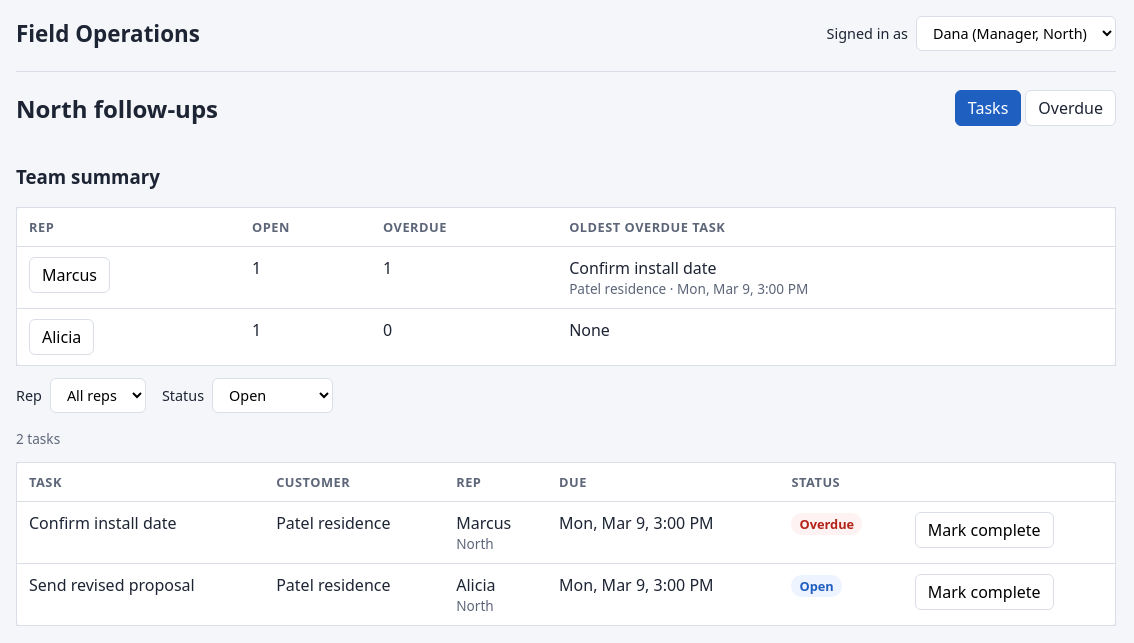
Test: Manager summary › opens a rep's open tasks and keeps the full summary while filters change
This screenshot has width=1134, height=643.
Expected: the table named "Tasks by rep" is shown, [16,207,1116,366]
Select "Completed" in the dropdown labelled "Status": (273, 396) [212,378,333,413]
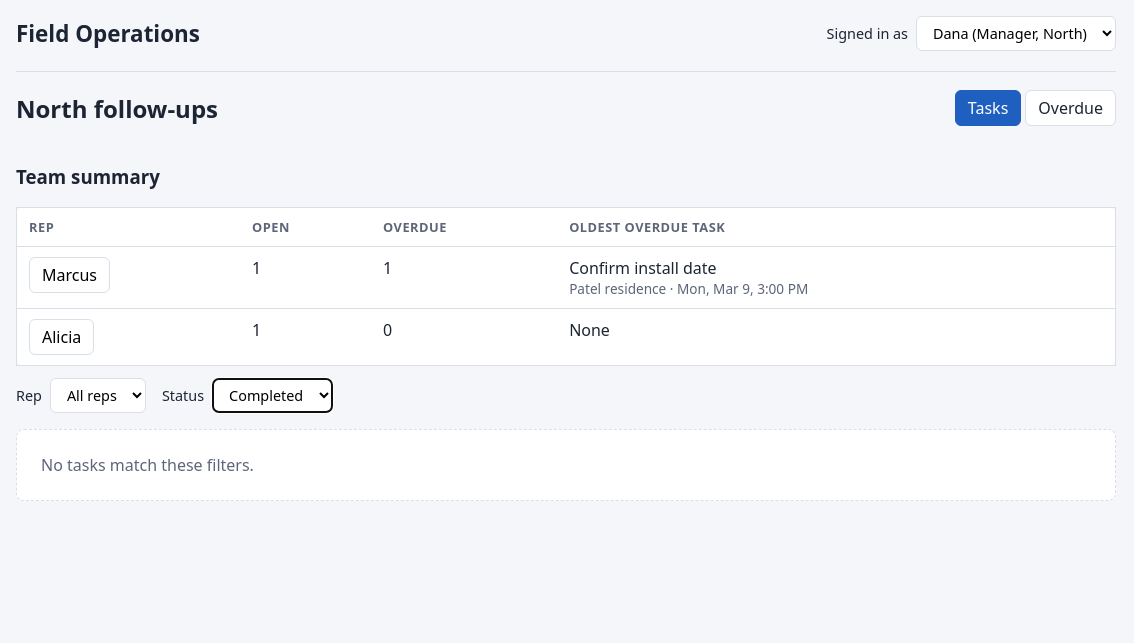
Click the button "Overdue": (1071, 108) [1025,90,1116,126]
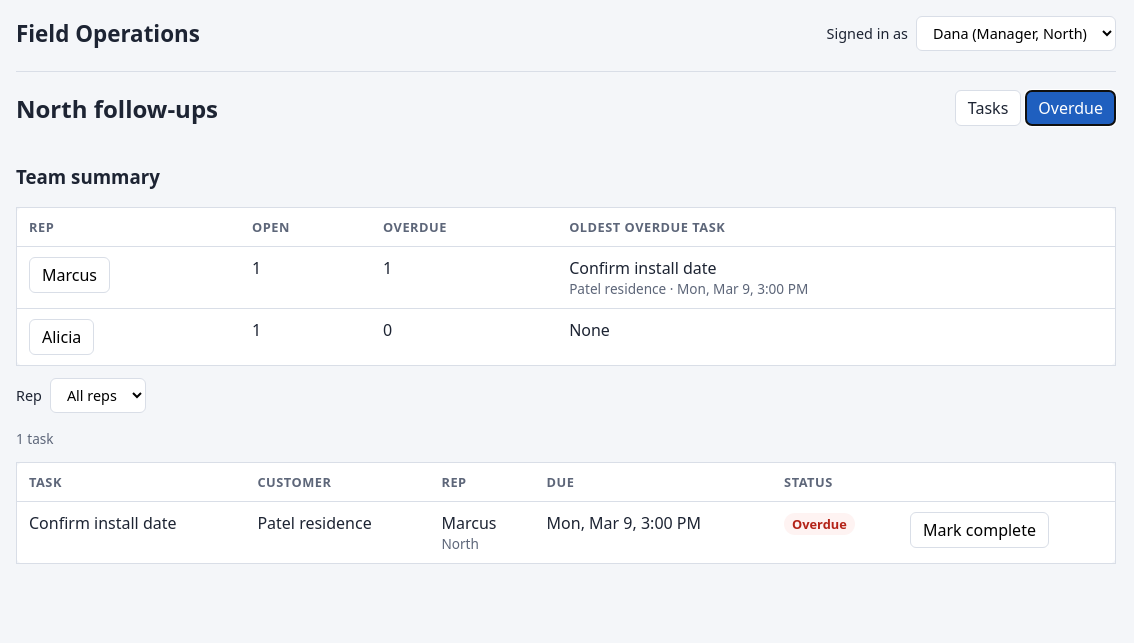
Click the button "Marcus": (70, 275) [29,257,110,293]
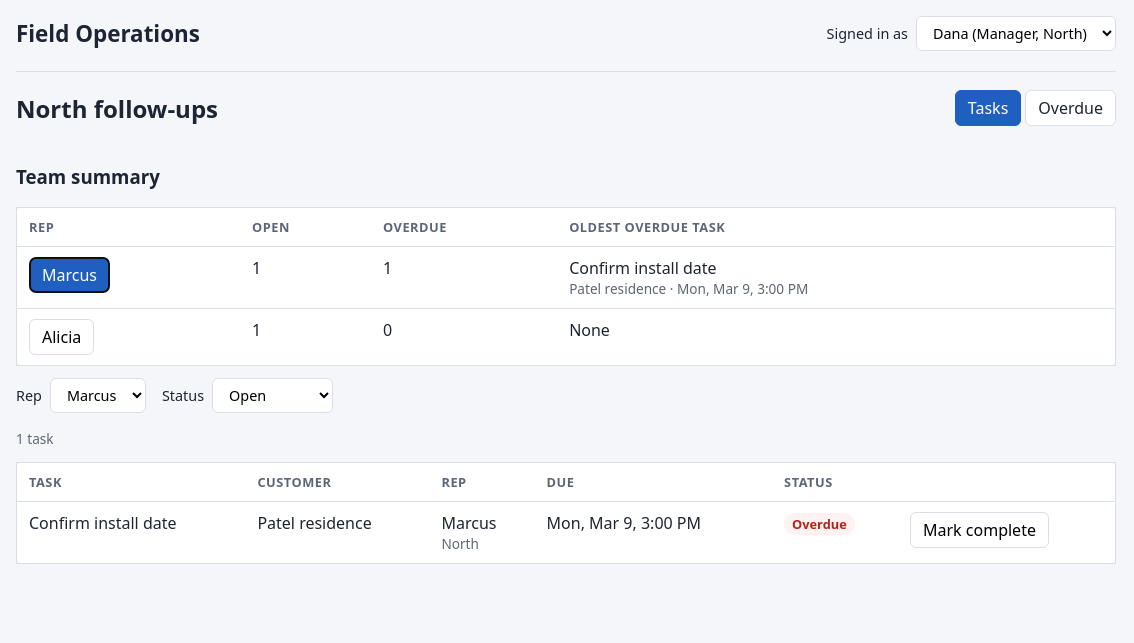
Expected: the cells read "Alicia", "1", "0", "None", in this order, [16,309,240,366]; [240,309,371,366]; [371,309,557,366]; [557,309,1116,366]
Expected: the dropdown labelled "Rep" shows "Marcus"
Expected: the dropdown labelled "Status" shows "Open", [212,378,333,413]
Select "All reps" in the dropdown labelled "Rep": (98, 396) [50,378,146,413]
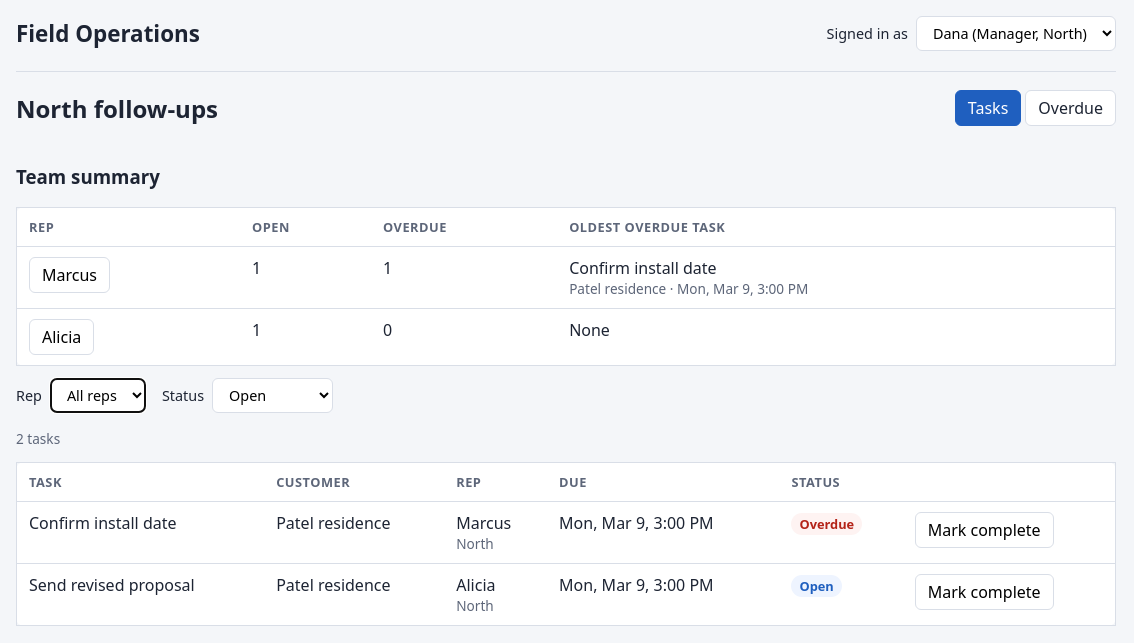
Expected: the text "Send revised proposal" is shown, [16,563,264,625]
